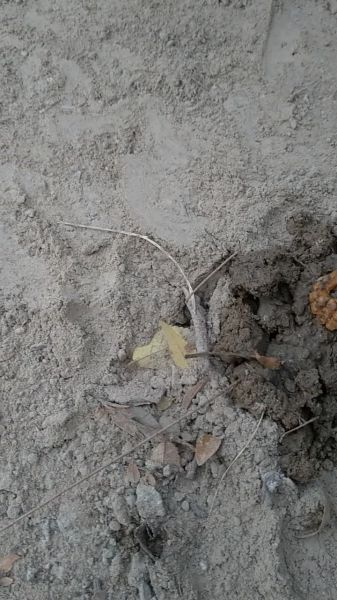eggs: (306, 269, 337, 336)
